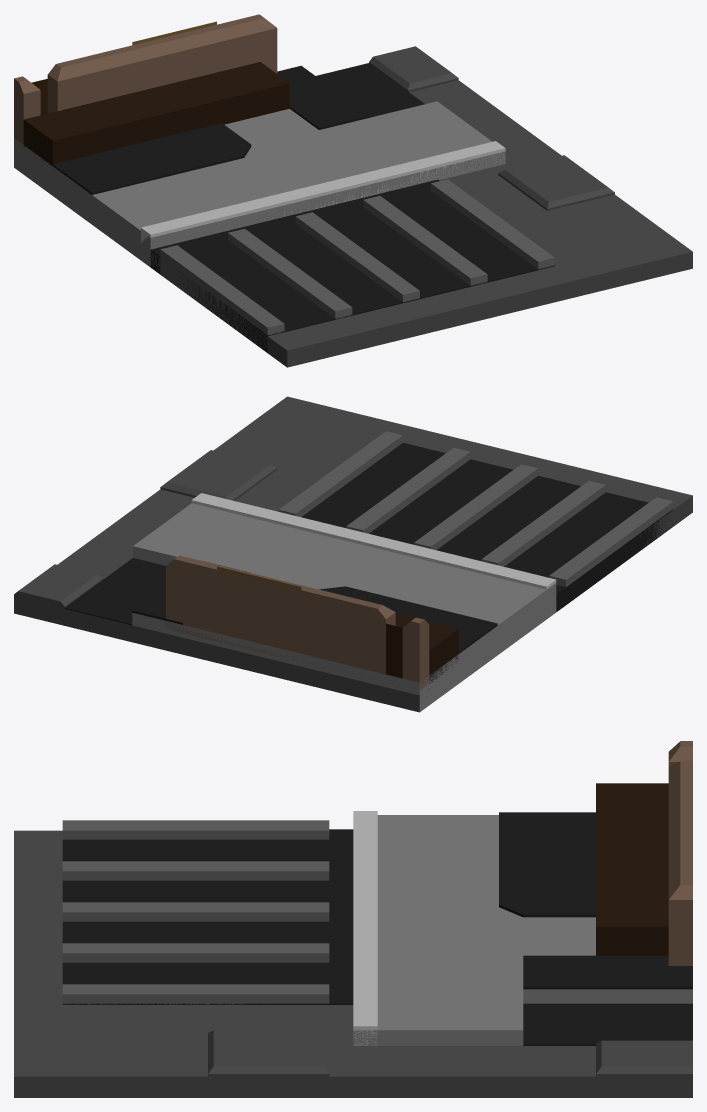
The model's file is newshp-269.glb.
The picture shows the model from 3 angles, top to bottom: view 1: azimuth 30°, elevation 25°; view 2: azimuth 150°, elevation 25°; view 3: azimuth 270°, elevation 25°; orthographic projection. The views are drawn at different scales.
Parts seen in each view (by area): view 1: newshp-269; view 2: newshp-269; view 3: newshp-269.
Part boxes in pixels (x1,y1,x2,y2): newshp-269: (14,14,692,367); newshp-269: (14,396,692,712); newshp-269: (14,741,692,1097).
Size of the model in its own units: 2 by 0.455 by 2.33.
